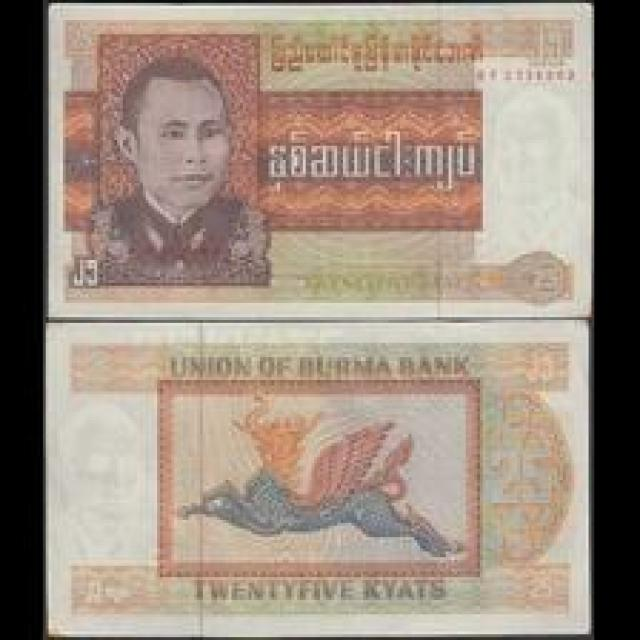banknote: (52, 6, 592, 312), (44, 330, 589, 630)
